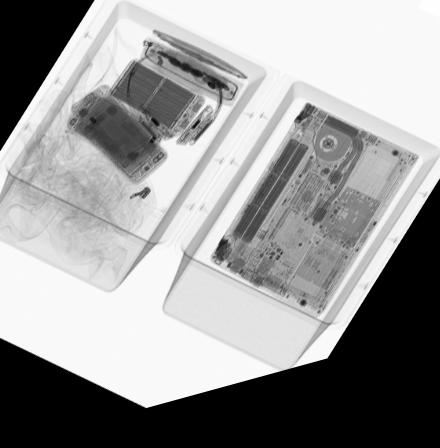Powerbank: (106, 66, 207, 143)
